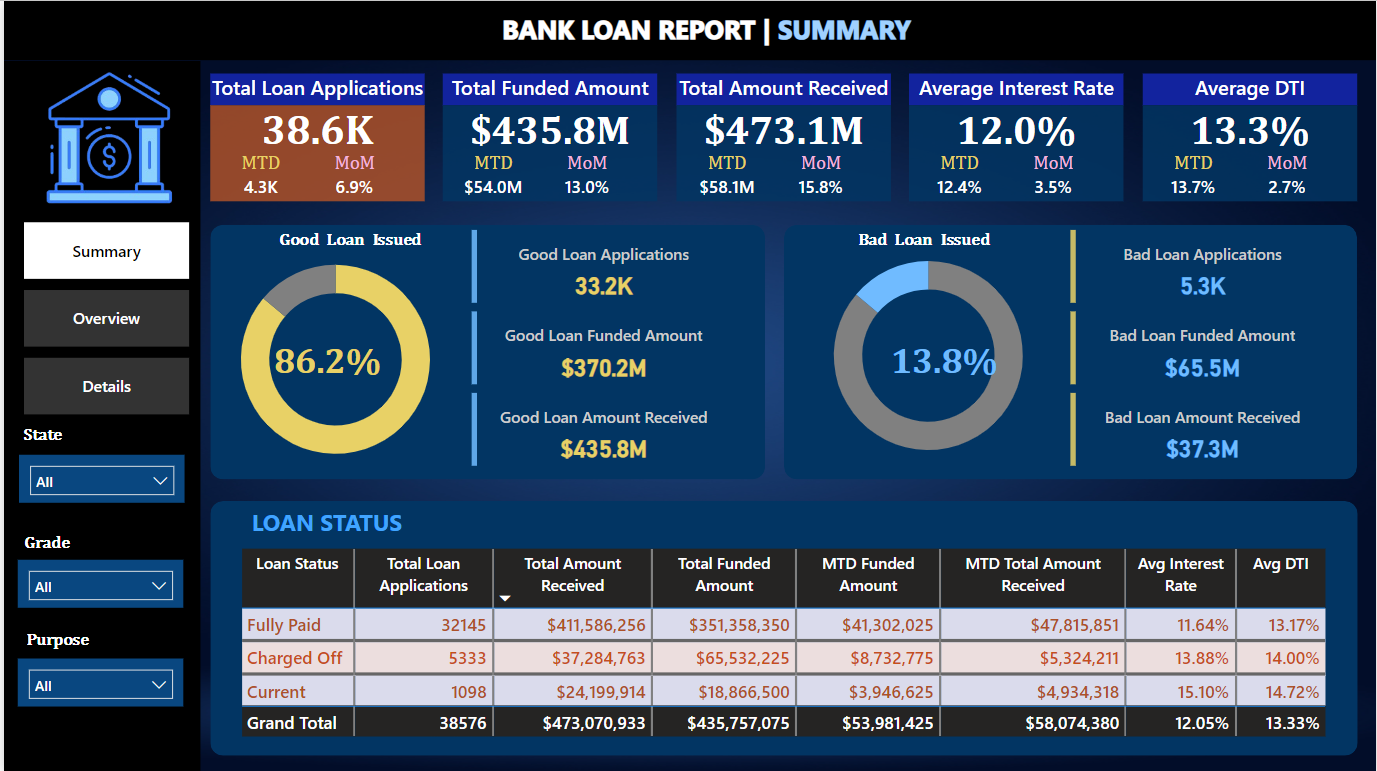

This screenshot's page, from the dashboard's own definition file:
{"tool":"powerbi","page":{"name":"Summary","canvas":[1280,720],"ordinal":0},"visuals":[{"type":"shape","box":[0,55.5,183.4,664.7],"z":0},{"type":"shape","title":"Total Loan Applications","box":[191.8,67.6,200.3,119.4],"z":0,"group":"g1"},{"type":"shape","title":"Total Funded Amount","box":[409.3,67.6,200.3,119.4],"z":0,"group":"g2"},{"type":"shape","title":"Total Amount Received","box":[626.7,67.6,200.3,119.4],"z":0,"group":"g3"},{"type":"shape","title":"Average Interest Rate","box":[844.2,67.6,200.3,119.4],"z":0,"group":"g4"},{"type":"shape","title":"Average DTI","box":[1061.7,67.6,200.3,119.4],"z":0,"group":"g5"},{"type":"shape","box":[0,0,1280,55.5],"z":1000},{"type":"card","fields":{"Values":["bank_loan_db financial_loan.Total Loan Applications"]},"box":[191.8,96.6,200.3,43.4],"z":1000,"group":"g1"},{"type":"card","fields":{"Values":["bank_loan_db financial_loan.Total Funded Amount"]},"box":[409.3,96.6,200.3,43.4],"z":1000,"group":"g2"},{"type":"card","fields":{"Values":["bank_loan_db financial_loan.Total Amount Received"]},"box":[626.7,96.6,200.3,43.4],"z":1000,"group":"g3"},{"type":"card","fields":{"Values":["bank_loan_db financial_loan.Avg Interest Rate"]},"box":[844.2,96.6,200.3,43.4],"z":1000,"group":"g4"},{"type":"card","fields":{"Values":["bank_loan_db financial_loan.Avg DTI"]},"box":[1061.7,96.6,200.3,43.4],"z":1000,"group":"g5"},{"type":"card","title":"MTD","fields":{"Values":["bank_loan_db financial_loan.MTD Loan Applications"]},"box":[205.1,140,68.8,47.1],"z":2000,"group":"g1"},{"type":"card","title":"MTD","fields":{"Values":["bank_loan_db financial_loan.MTD Funded Amount"]},"box":[422.6,140,68.8,47.1],"z":2000,"group":"g2"},{"type":"card","title":"MTD","fields":{"Values":["bank_loan_db financial_loan.MTD Total Amount Received"]},"box":[640,140,68.8,47.1],"z":2000,"group":"g3"},{"type":"card","title":"MTD","fields":{"Values":["bank_loan_db financial_loan.MTD Avg Int Rate"]},"box":[857.5,140,68.8,47.1],"z":2000,"group":"g4"},{"type":"card","title":"MTD","fields":{"Values":["bank_loan_db financial_loan.MTD Avg DTI"]},"box":[1075,140,68.8,47.1],"z":2000,"group":"g5"},{"type":"shape","box":[191.8,208.7,517.6,237.7],"z":2000},{"type":"card","title":"MoM","fields":{"Values":["bank_loan_db financial_loan.MoM Loan Applications"]},"box":[291.9,140,68.8,47.1],"z":3000,"group":"g1"},{"type":"card","title":"MoM","fields":{"Values":["bank_loan_db financial_loan.MoM Funded Amount"]},"box":[509.4,140,68.8,47.1],"z":3000,"group":"g2"},{"type":"card","title":"MoM","fields":{"Values":["bank_loan_db financial_loan.MoM Total Amount Received"]},"box":[726.8,140,68.8,47.1],"z":3000,"group":"g3"},{"type":"card","title":"MoM","fields":{"Values":["bank_loan_db financial_loan.MoM Avg int rate"]},"box":[944.3,140,68.8,47.1],"z":3000,"group":"g4"},{"type":"card","title":"MoM","fields":{"Values":["bank_loan_db financial_loan.MoM Avg DTI"]},"box":[1161.8,140,68.8,47.1],"z":3000,"group":"g5"},{"type":"card","fields":{"Values":["bank_loan_db financial_loan.Good Loan %"]},"box":[240.1,312.5,123.1,43.4],"z":3000},{"type":"textbox","box":[431.9,4.8,447.6,45.8],"z":4000},{"type":"group","id":"g1","title":"Group 1","box":[191.8,67.6,200.3,119.4],"z":5000},{"type":"shape","box":[727.5,208.7,534.5,237.7],"z":6000},{"type":"group","id":"g2","title":"Group 1","box":[409.3,67.6,200.3,119.4],"z":7000},{"type":"group","id":"g3","title":"Group 1","box":[626.7,67.6,200.3,119.4],"z":8000},{"type":"group","id":"g4","title":"Group 1","box":[844.2,67.6,200.3,119.4],"z":9000},{"type":"group","id":"g5","title":"Group 1","box":[1061.7,67.6,200.3,119.4],"z":10000},{"type":"donutChart","fields":{"Category":["bank_loan_db financial_loan.Good vs Bad Loan"],"Y":["bank_loan_db financial_loan.Total Loan Applications"]},"box":[191.8,219.6,234,230.4],"z":11000},{"type":"donutChart","fields":{"Category":["bank_loan_db financial_loan.Good vs Bad Loan"],"Y":["bank_loan_db financial_loan.Total Loan Applications"]},"box":[737.1,216,250.9,230.4],"z":12000},{"type":"card","fields":{"Values":["bank_loan_db financial_loan.Bad Loan %"]},"box":[815.6,312.5,121.9,43.4],"z":13000},{"type":"textbox","box":[240.1,208.7,165.3,31.4],"z":14000},{"type":"textbox","box":[772.1,208.7,171.3,31.4],"z":15000},{"type":"cardVisual","fields":{"Data":["bank_loan_db financial_loan.Good Loan Applications","bank_loan_db financial_loan.Good Loan Funded Amount","bank_loan_db financial_loan.Good Loan Amount Received"]},"box":[431.9,208.7,257,232.8],"z":16000},{"type":"shape","box":[191.8,466.9,1070.1,237.7],"z":17000},{"type":"cardVisual","fields":{"Data":["bank_loan_db financial_loan.Bad Loan Applications","bank_loan_db financial_loan.Bad Loan Funded Amount","bank_loan_db financial_loan.Bad Loan Amount Received"]},"box":[989.3,208.7,257,232.8],"z":18000},{"type":"tableEx","fields":{"Values":["bank_loan_db financial_loan.loan_status","bank_loan_db financial_loan.Total Loan Applications","bank_loan_db financial_loan.Total Amount Received","bank_loan_db financial_loan.Total Funded Amount","bank_loan_db financial_loan.MTD Funded Amount","bank_loan_db financial_loan.MTD Total Amount Received","bank_loan_db financial_loan.Avg Interest Rate","bank_loan_db financial_loan.Avg DTI"]},"box":[216,505.5,1023.1,185.8],"z":19000},{"type":"textbox","box":[220.8,466.9,161.7,38.6],"z":20000},{"type":"slicer","fields":{"Values":["bank_loan_db financial_loan.address_state"]},"box":[14.5,423.7,154.4,44.6],"z":21000},{"type":"textbox","box":[13.3,391.1,59.1,30.2],"z":22000},{"type":"slicer","fields":{"Values":["bank_loan_db financial_loan.grade"]},"box":[13.3,521.4,154.4,44.6],"z":23000},{"type":"textbox","box":[14.5,491.2,77.2,30.2],"z":24000},{"type":"slicer","fields":{"Values":["bank_loan_db financial_loan.purpose"]},"box":[13.3,612.7,154.4,44.6],"z":25000},{"type":"textbox","box":[15.7,581.3,77.2,30.2],"z":26000},{"type":"image","box":[20.6,55.7,154.4,143.6],"z":26001},{"type":"pageNavigator","box":[18.1,206.6,154.4,181],"z":26002}]}

Visuals, with their boxes in screenshot pixels (x1, y1, x2, y2), scaled from the page's 1280x720 canvas onto the 1377x771 screenshot:
shape: crop(0, 59, 197, 770)
"Total Loan Applications" shape: crop(206, 72, 422, 200)
"Total Funded Amount" shape: crop(440, 72, 656, 200)
"Total Amount Received" shape: crop(674, 72, 890, 200)
"Average Interest Rate" shape: crop(908, 72, 1124, 200)
"Average DTI" shape: crop(1142, 72, 1358, 200)
shape: crop(0, 0, 1376, 59)
card - bank_loan_db financial_loan.Total Loan Applications: crop(206, 103, 422, 150)
card - bank_loan_db financial_loan.Total Funded Amount: crop(440, 103, 656, 150)
card - bank_loan_db financial_loan.Total Amount Received: crop(674, 103, 890, 150)
card - bank_loan_db financial_loan.Avg Interest Rate: crop(908, 103, 1124, 150)
card - bank_loan_db financial_loan.Avg DTI: crop(1142, 103, 1358, 150)
"MTD" card: crop(221, 150, 295, 200)
"MTD" card: crop(455, 150, 529, 200)
"MTD" card: crop(688, 150, 763, 200)
"MTD" card: crop(922, 150, 996, 200)
"MTD" card: crop(1156, 150, 1230, 200)
shape: crop(206, 223, 763, 478)
"MoM" card: crop(314, 150, 388, 200)
"MoM" card: crop(548, 150, 622, 200)
"MoM" card: crop(782, 150, 856, 200)
"MoM" card: crop(1016, 150, 1090, 200)
"MoM" card: crop(1250, 150, 1324, 200)
card - bank_loan_db financial_loan.Good Loan %: crop(258, 335, 391, 381)
textbox: crop(465, 5, 946, 54)
"Group 1" group: crop(206, 72, 422, 200)
shape: crop(783, 223, 1358, 478)
"Group 1" group: crop(440, 72, 656, 200)
"Group 1" group: crop(674, 72, 890, 200)
"Group 1" group: crop(908, 72, 1124, 200)
"Group 1" group: crop(1142, 72, 1358, 200)
donutChart - bank_loan_db financial_loan.Good vs Bad Loan x bank_loan_db financial_loan.Total Loan Applications: crop(206, 235, 458, 482)
donutChart - bank_loan_db financial_loan.Good vs Bad Loan x bank_loan_db financial_loan.Total Loan Applications: crop(793, 231, 1063, 478)
card - bank_loan_db financial_loan.Bad Loan %: crop(877, 335, 1009, 381)
textbox: crop(258, 223, 436, 257)
textbox: crop(831, 223, 1015, 257)
cardVisual - bank_loan_db financial_loan.Good Loan Applications x bank_loan_db financial_loan.Good Loan Funded Amount: crop(465, 223, 741, 473)
shape: crop(206, 500, 1358, 755)
cardVisual - bank_loan_db financial_loan.Bad Loan Applications x bank_loan_db financial_loan.Bad Loan Funded Amount: crop(1064, 223, 1341, 473)
tableEx - bank_loan_db financial_loan.loan_status x bank_loan_db financial_loan.Total Loan Applications: crop(232, 541, 1333, 740)
textbox: crop(238, 500, 411, 541)
slicer - bank_loan_db financial_loan.address_state: crop(16, 454, 182, 501)
textbox: crop(14, 419, 78, 451)
slicer - bank_loan_db financial_loan.grade: crop(14, 558, 180, 606)
textbox: crop(16, 526, 99, 558)
slicer - bank_loan_db financial_loan.purpose: crop(14, 656, 180, 704)
textbox: crop(17, 622, 100, 655)
image: crop(22, 60, 188, 213)
pageNavigator: crop(19, 221, 186, 415)
